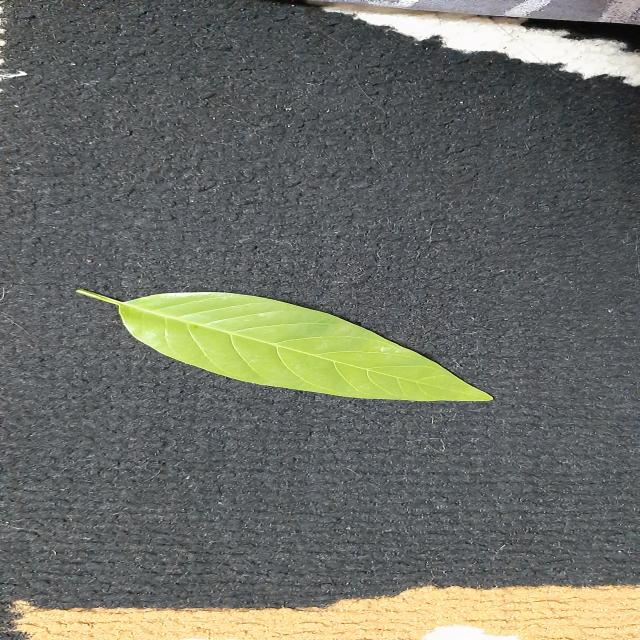seethaphala: (76, 289, 490, 401)
